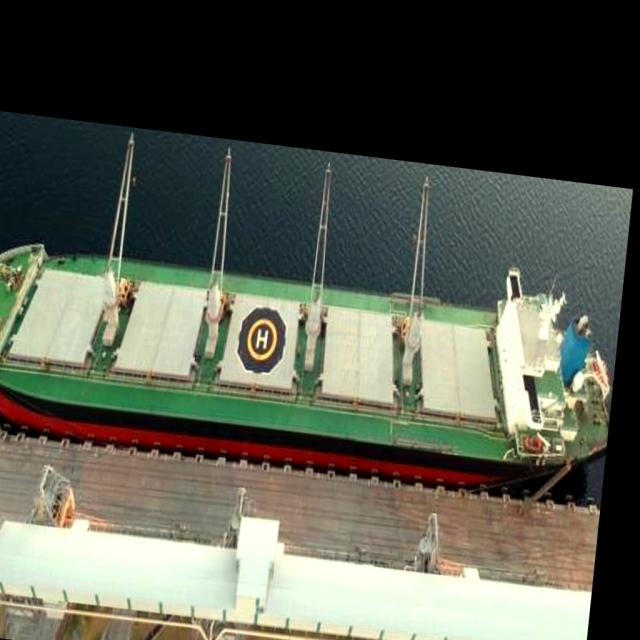helipad: (246, 317, 277, 360)
